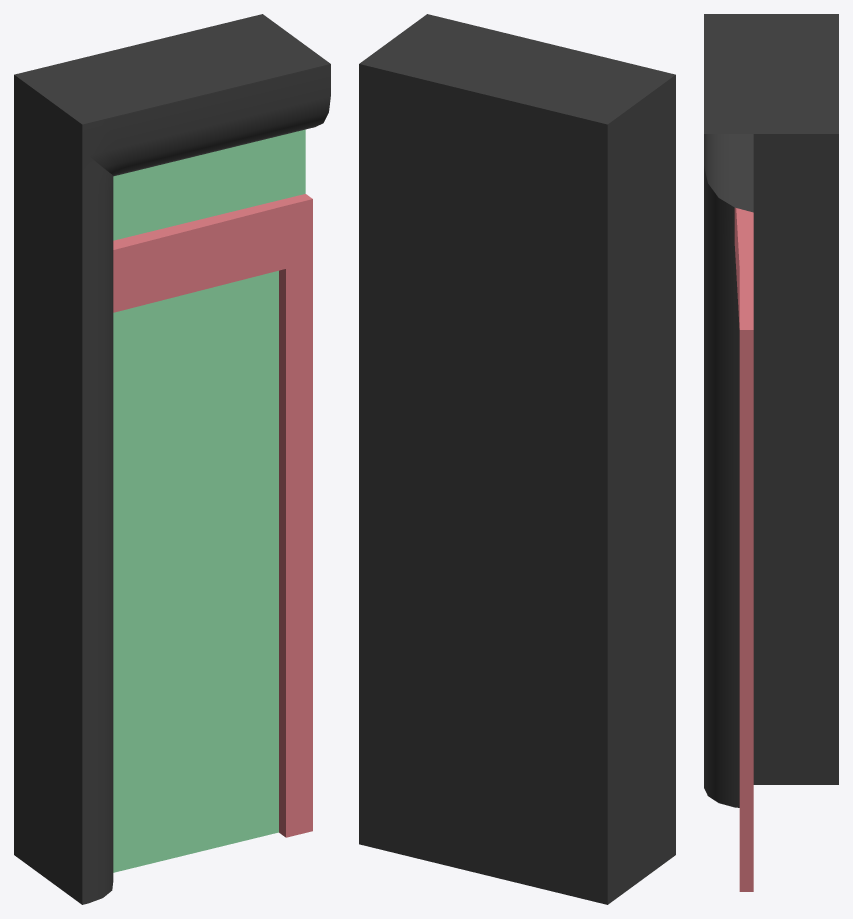
File: ShipWallEnd1.fbx
The picture shows the model from 3 angles, left to right: view 1: azimuth 30°, elevation 25°; view 2: azimuth 150°, elevation 25°; view 3: azimuth 270°, elevation 25°; orthographic projection.
Visible parts, largest first — view 1: WallEnd1; view 2: WallEnd1; view 3: WallEnd1.
Part boxes in pixels (x1,y1,x2,y2): WallEnd1: [14, 14, 330, 904]; WallEnd1: [359, 14, 675, 904]; WallEnd1: [704, 14, 838, 891].
Size of the model in its own units: 1 by 3 by 0.475.
